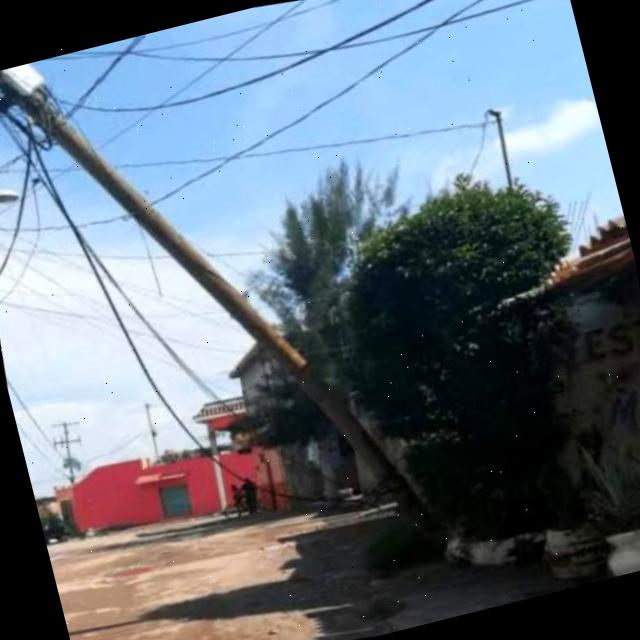Broken Pole: (0, 63, 443, 549)
